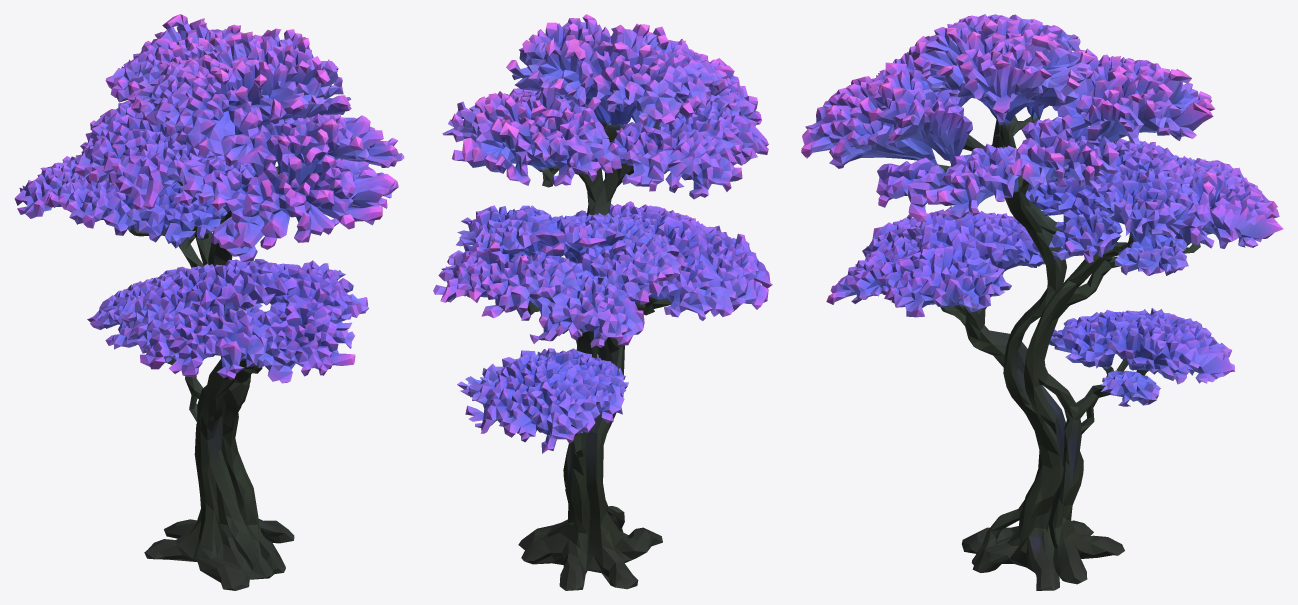
Rendered from source.glb.
3 renders of one model, left to right at view 1: azimuth 30°, elevation 25°; view 2: azimuth 150°, elevation 25°; view 3: azimuth 270°, elevation 25°, orthographic. The views are drawn at different scales.
Visible parts, largest first — view 1: model; view 2: model; view 3: model.
Part boxes in pixels (box(x1,y1,x2,y2)): model: box(14, 14, 404, 590); model: box(433, 14, 772, 590); model: box(801, 14, 1283, 590).
Size of the model in its own units: 1.09 by 1.91 by 1.56.
Materials: 1 (1 with a texture image).
